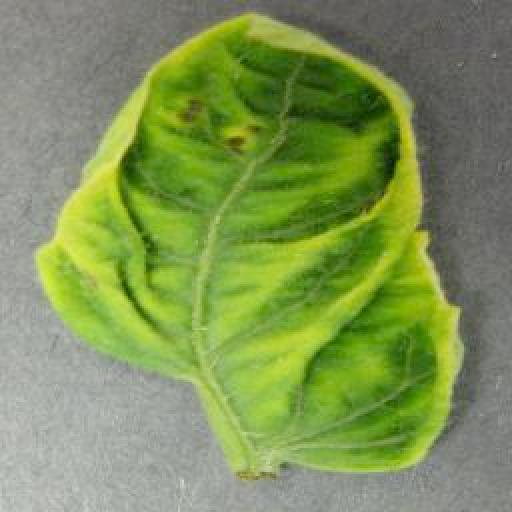disease_tomato: (31, 8, 467, 476)
